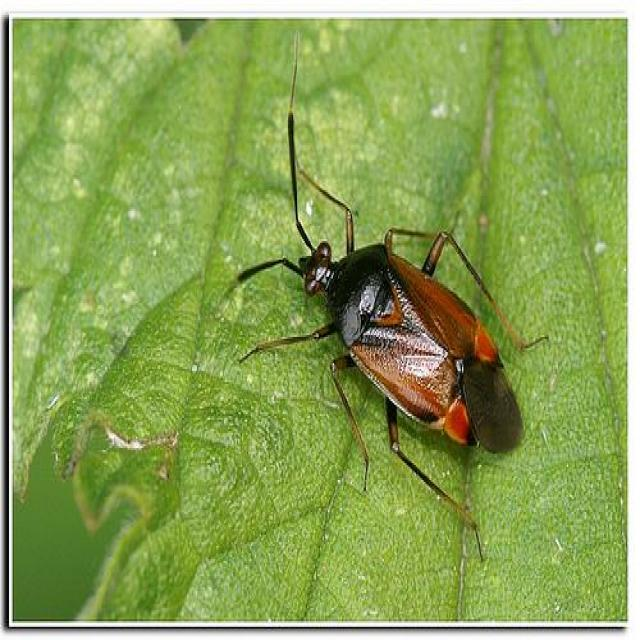Miridae-Adult-: (232, 27, 556, 574)
